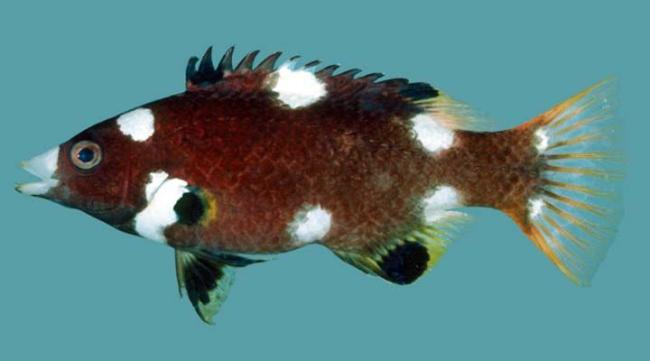fish: (13, 45, 626, 328)
